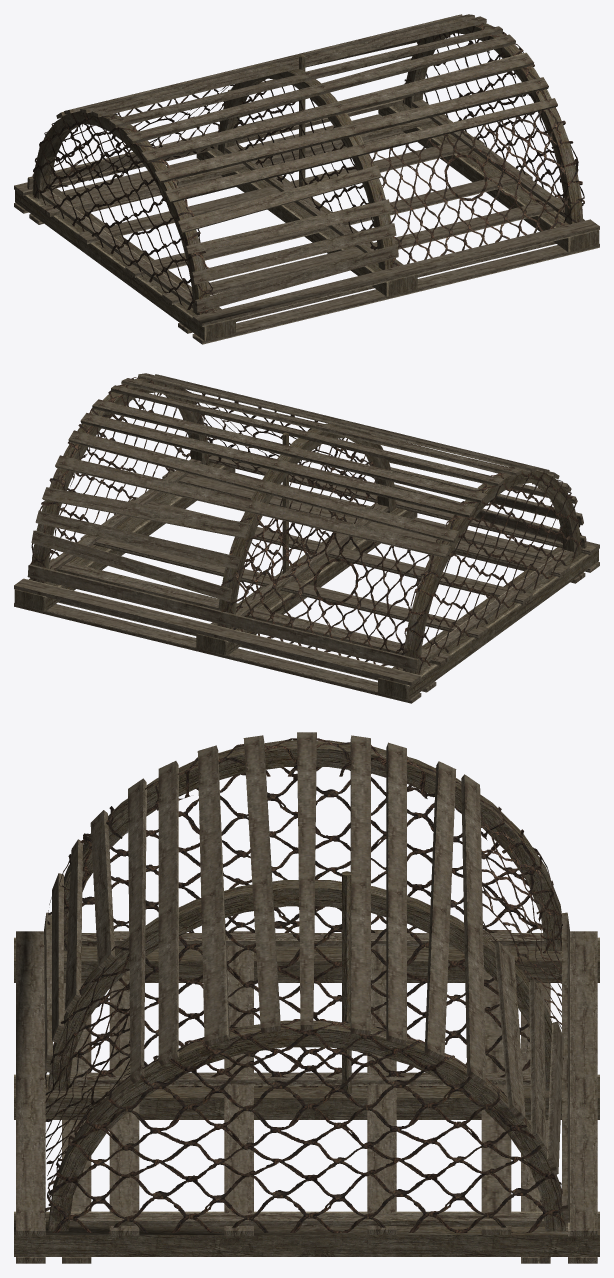
The model's file is lobser_trap_a.FBX.
The picture shows the model from 3 angles, top to bottom: view 1: azimuth 30°, elevation 25°; view 2: azimuth 150°, elevation 25°; view 3: azimuth 270°, elevation 25°; orthographic projection. The views are drawn at different scales.
Parts seen in each view (by area): view 1: lobser_trap_a; view 2: lobser_trap_a; view 3: lobser_trap_a.
Part boxes in pixels (bbox=[...]): lobser_trap_a: bbox=[14, 14, 599, 344]; lobser_trap_a: bbox=[14, 373, 599, 703]; lobser_trap_a: bbox=[14, 732, 599, 1263].
Bounding box in the file's own units: 47.8 × 39.37 × 18.28.
